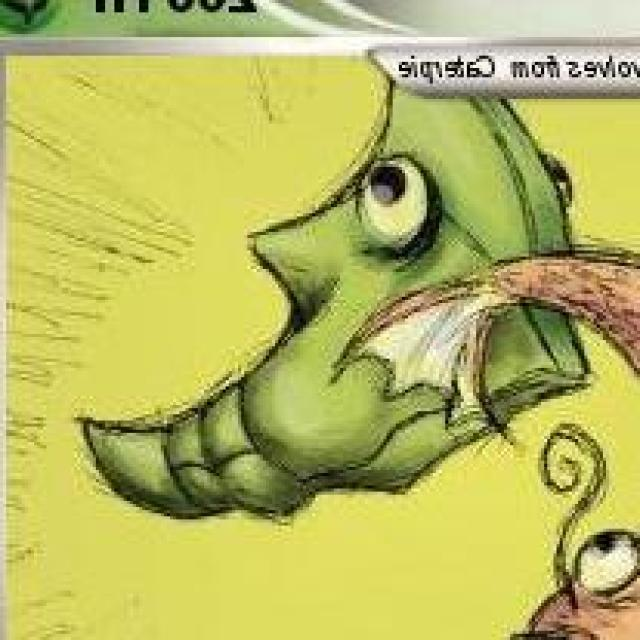Metapod: (82, 94, 596, 523)
